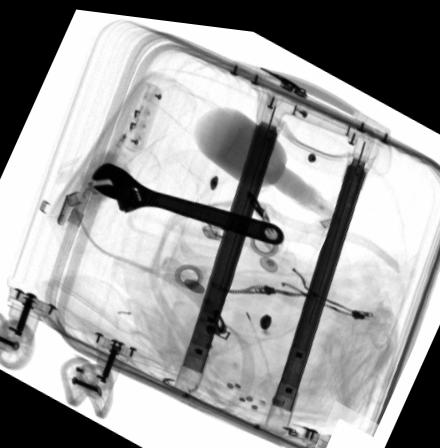Wrench: (92, 160, 285, 237)
